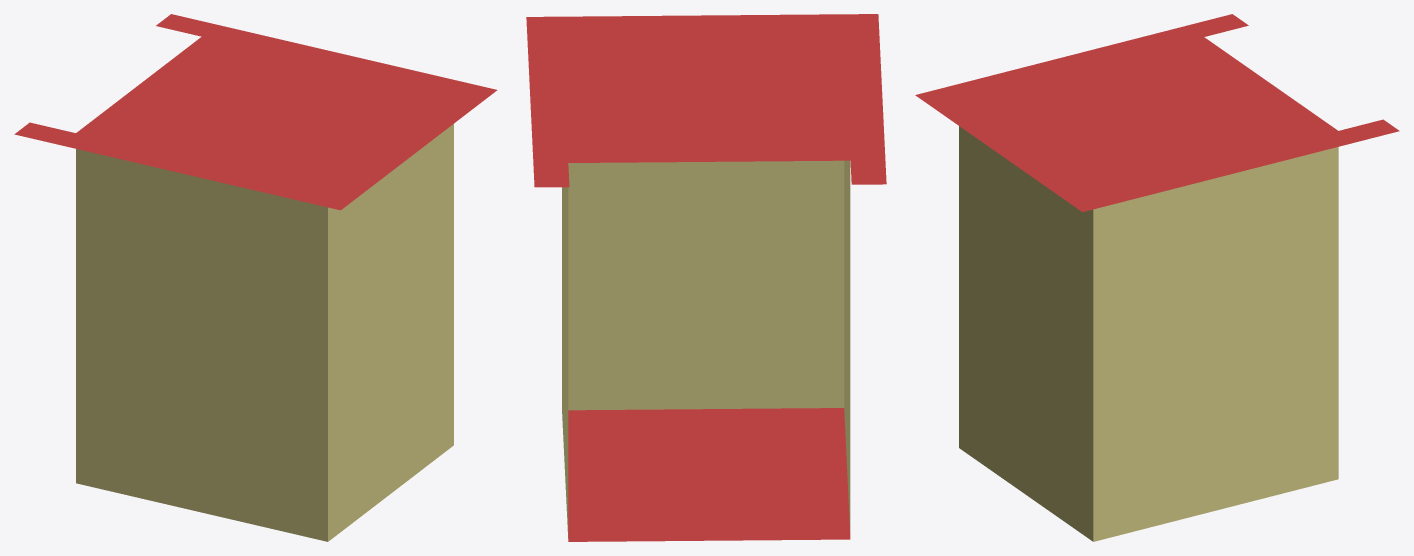
The picture shows the model from 3 angles, left to right: view 1: azimuth 30°, elevation 25°; view 2: azimuth 150°, elevation 25°; view 3: azimuth 270°, elevation 25°; orthographic projection. The views are drawn at different scales.
Size of the model in its own units: 7.3 by 7.54 by 5.98.
